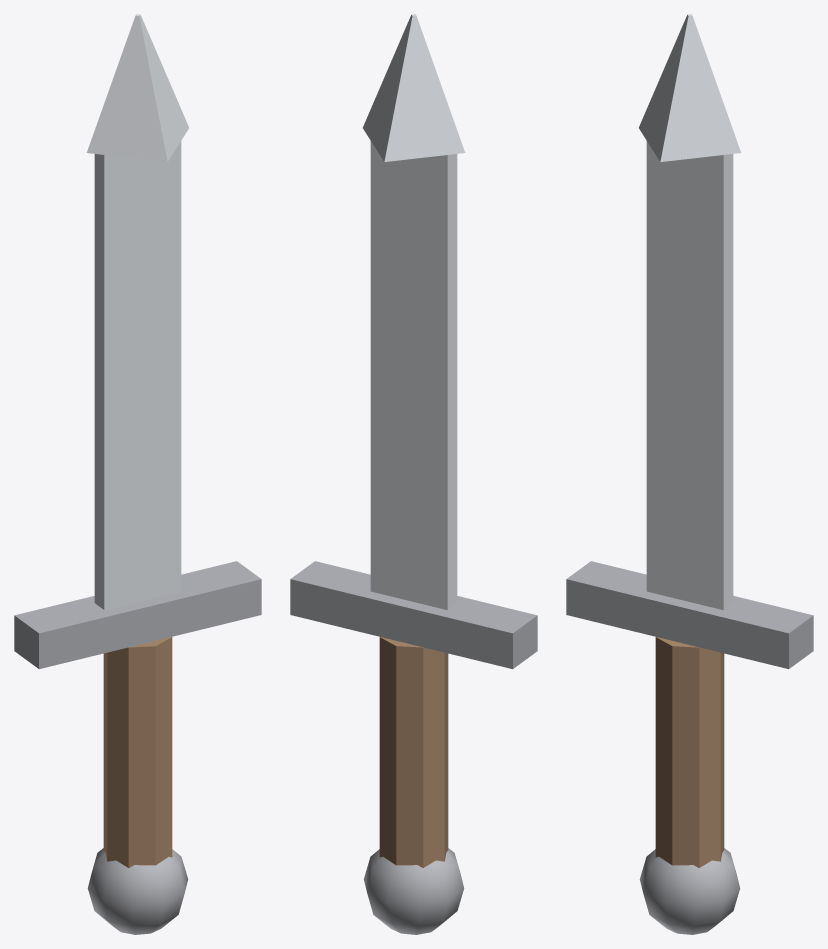
The model's file is Dagger.gltf.
3 renders of one model, left to right at view 1: azimuth 30°, elevation 25°; view 2: azimuth 150°, elevation 25°; view 3: azimuth 330°, elevation 25°, orthographic.
Visible parts, largest first — view 1: Dagger; view 2: Dagger; view 3: Dagger.
Boxes of the visible parts, <box> form: Dagger: <box>14,14,261,934</box>; Dagger: <box>290,14,537,934</box>; Dagger: <box>566,14,813,934</box>.
Bounding box in the file's own units: 0.13 × 0.511 × 0.06.
